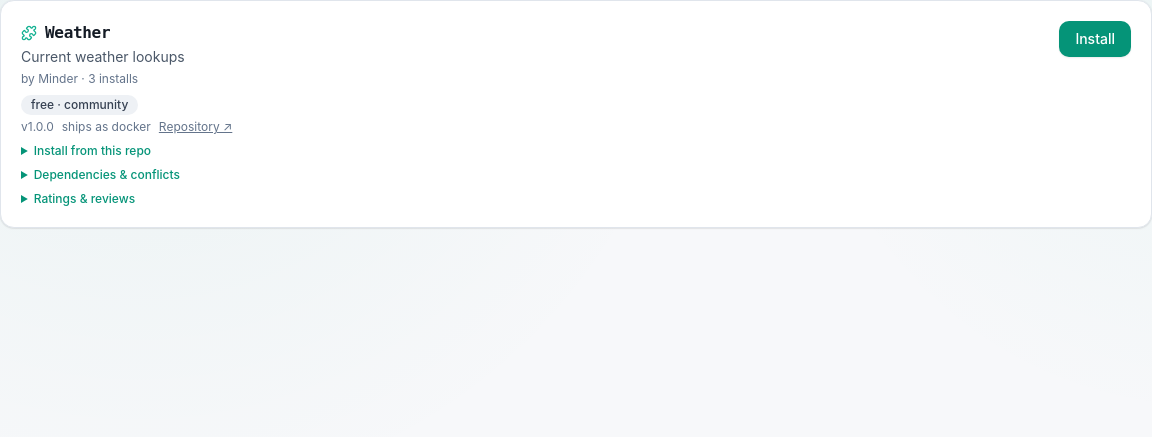
Test: PluginCard › installs from the repo for an admin, posting repo_url + optional ref/subpath
Click the heading "Install from this repo" at (92, 150), box [34, 143, 151, 158]
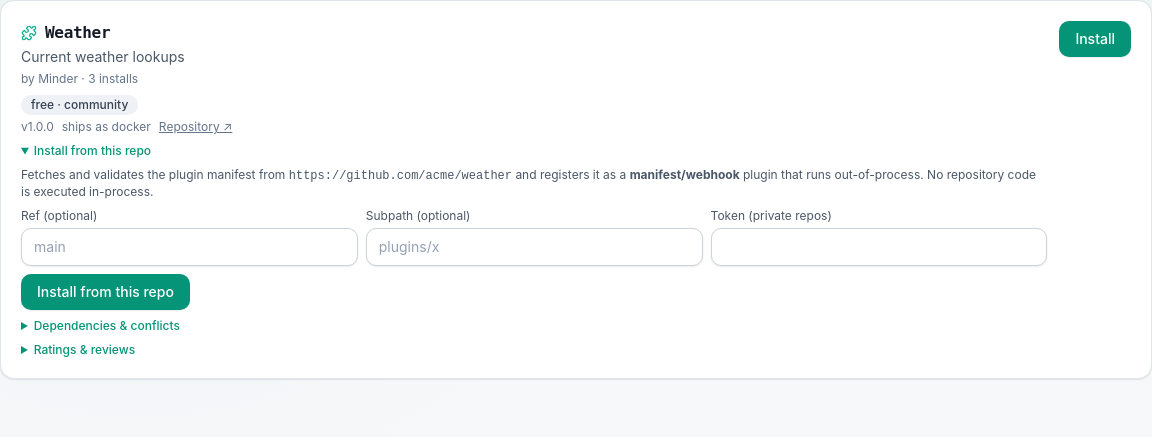
Type "v1.2.0" into the field named "Git ref" at (189, 247), box [21, 228, 358, 266]
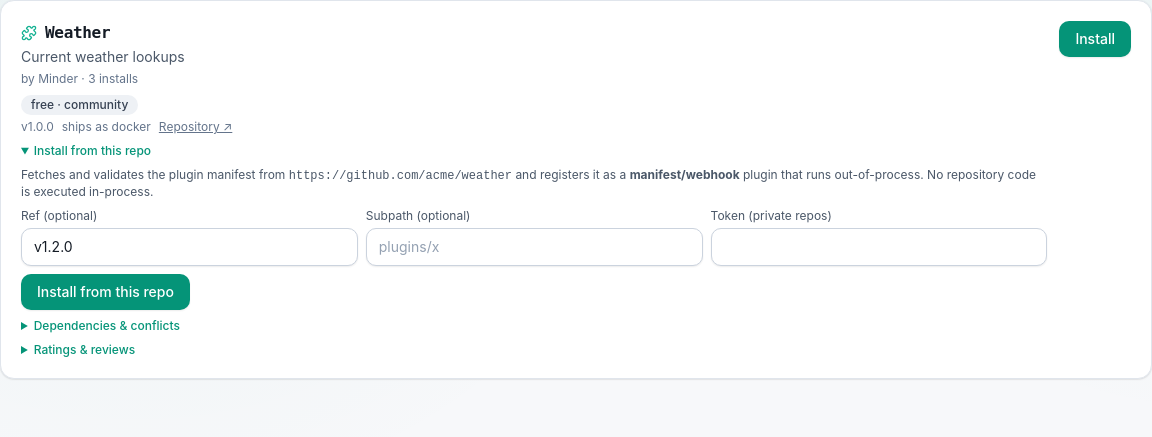
Type "plugins/weather" into the field named "Manifest subpath" at (534, 247), box [366, 228, 703, 266]
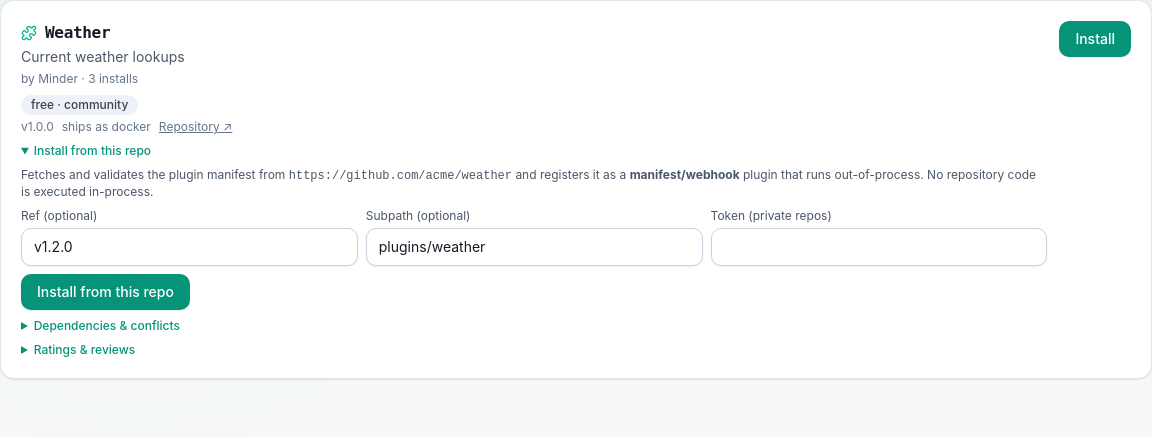
Click the button with aria-label "Install Weather from this repo" at (105, 292), box [21, 274, 190, 310]
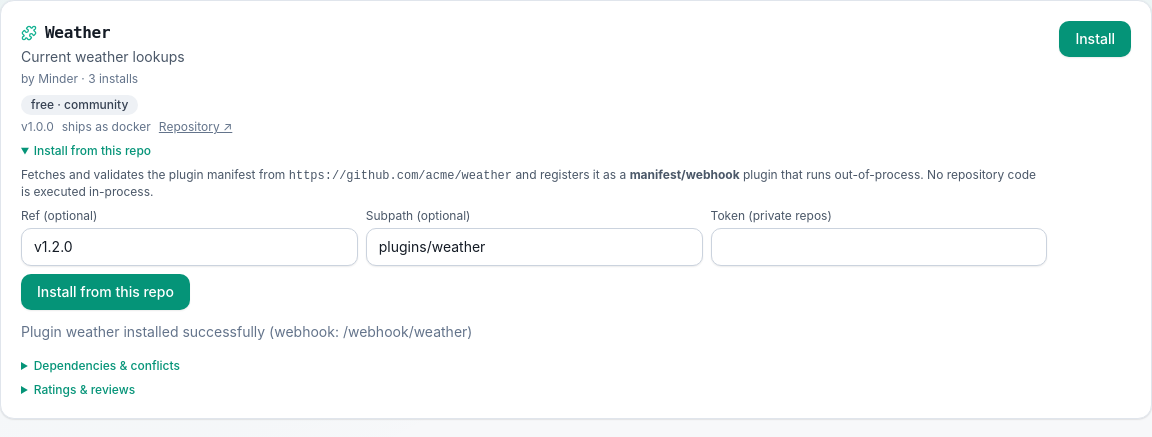
expect the text "Plugin weather installed successfully (webhook: /webhook/weather)" is shown: met, box [21, 323, 472, 340]
